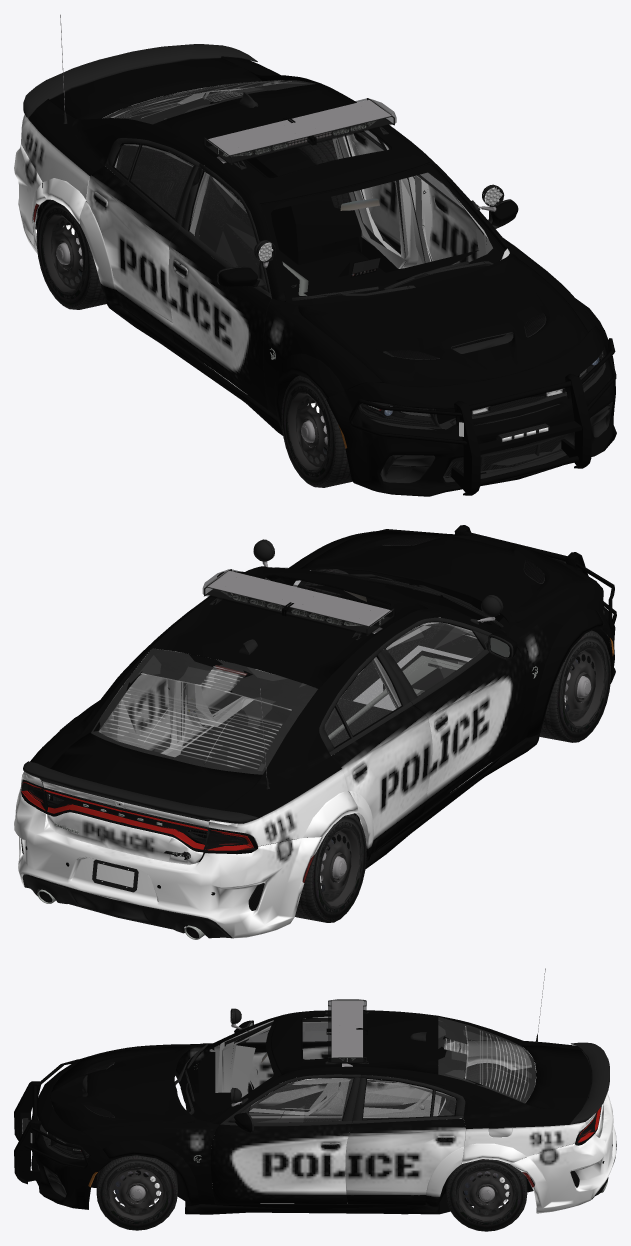
File: police_charger.glb
3 renders of one model, top to bottom at view 1: azimuth 30°, elevation 25°; view 2: azimuth 150°, elevation 25°; view 3: azimuth 270°, elevation 25°, orthographic. The views are drawn at different scales.
Visible parts, largest first — view 1: bodyshell_SUB9.001, bonnet.001, windscreen_ext.001, bumper_f.016, bodyshell_SUB3.001, door_rf.002, door_rr_SUB13.001, PART_20, boot.005, bodyshell_SUB7.001, bodyshell_SUB2.001, boot_spoiler.001 (+34 smaller); view 2: bodyshell_SUB9.001, windscreen_r_ext.001, bumper_r.008, windscreen_r_int.002, boot.005, bonnet.001, door_rf.002, door_rr_SUB13.001, bodyshell_SUB7.001, bodyshell_SUB3.001, window_rf_int.001, window_rf_ext.001 (+35 smaller); view 3: bodyshell_SUB9.001, door_lf.001, door_lr_SUB13.001, bonnet.001, windscreen_ext.001, bumper_r.008, windscreen_r_ext.001, windscreen_r_int.002, bumper_f.016, boot.005, window_lf_ext.001, window_lf_int.001 (+30 smaller).
Part boxes in pixels (<box>): bodyshell_SUB9.001: <box>21,56,596,416</box>; bonnet.001: <box>298,253,588,387</box>; windscreen_ext.001: <box>262,165,504,304</box>; bumper_f.016: <box>326,326,616,496</box>; bodyshell_SUB3.001: <box>34,91,511,456</box>; door_rf.002: <box>168,230,271,409</box>; door_rr_SUB13.001: <box>79,166,178,342</box>; PART_20: <box>348,338,616,495</box>; boot.005: <box>48,58,262,119</box>; bodyshell_SUB7.001: <box>104,80,504,305</box>; bodyshell_SUB2.001: <box>167,208,424,397</box>; boot_spoiler.001: <box>23,44,257,117</box>; bodyshell_SUB9.001: <box>21,531,596,860</box>; windscreen_r_ext.001: <box>91,648,317,774</box>; bumper_r.008: <box>14,787,324,938</box>; windscreen_r_int.002: <box>91,649,317,774</box>; boot.005: <box>42,733,262,864</box>; bonnet.001: <box>298,530,586,623</box>; door_rf.002: <box>413,632,525,812</box>; door_rr_SUB13.001: <box>331,705,432,861</box>; bodyshell_SUB7.001: <box>91,573,500,774</box>; bodyshell_SUB3.001: <box>21,565,545,910</box>; window_rf_int.001: <box>386,622,483,695</box>; window_rf_ext.001: <box>386,622,483,695</box>; bodyshell_SUB9.001: <box>82,1010,594,1204</box>; door_lf.001: <box>210,1112,351,1203</box>; door_lr_SUB13.001: <box>345,1118,465,1206</box>; bonnet.001: <box>50,1045,197,1131</box>; windscreen_ext.001: <box>180,1017,281,1121</box>; bumper_r.008: <box>509,1065,616,1213</box>; windscreen_r_ext.001: <box>438,1017,535,1103</box>; windscreen_r_int.002: <box>438,1017,535,1102</box>; bumper_f.016: <box>31,1056,111,1209</box>; boot.005: <box>522,1045,603,1137</box>; window_lf_ext.001: <box>249,1078,353,1122</box>; window_lf_int.001: <box>249,1078,352,1122</box>.
Size of what is drawn, in the model's own units: 1.18 by 0.966 by 2.91.
Materials: 51 (24 with a texture image).
